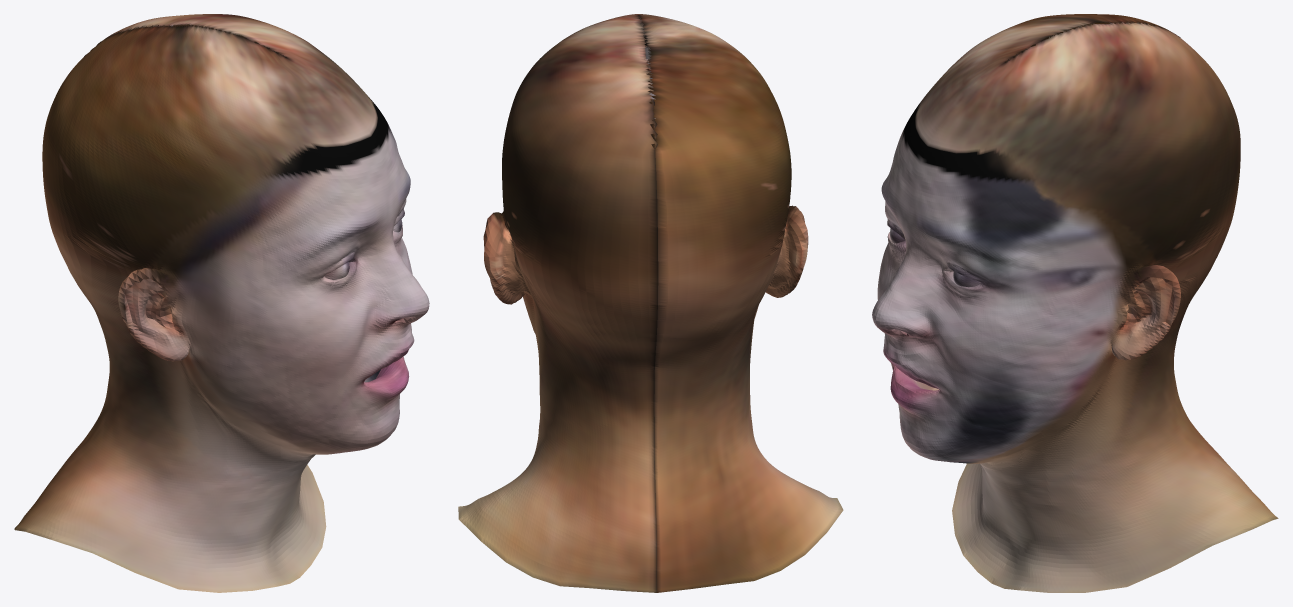
File: cheo1_frame0007_detail.obj
The picture shows the model from 3 angles, left to right: view 1: azimuth 30°, elevation 25°; view 2: azimuth 150°, elevation 25°; view 3: azimuth 270°, elevation 25°; orthographic projection.
Size of the model in its own units: 0.2137 by 0.3201 by 0.2217.
